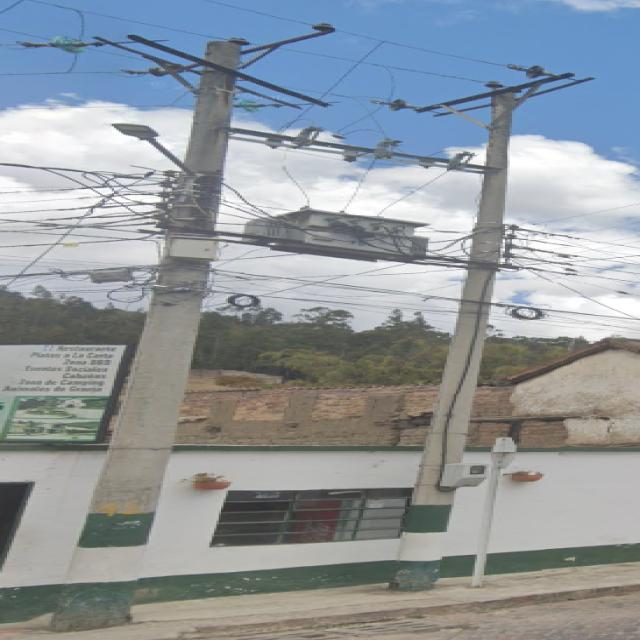Poste: (244, 65, 573, 591), (51, 23, 333, 631), (249, 206, 426, 262)
